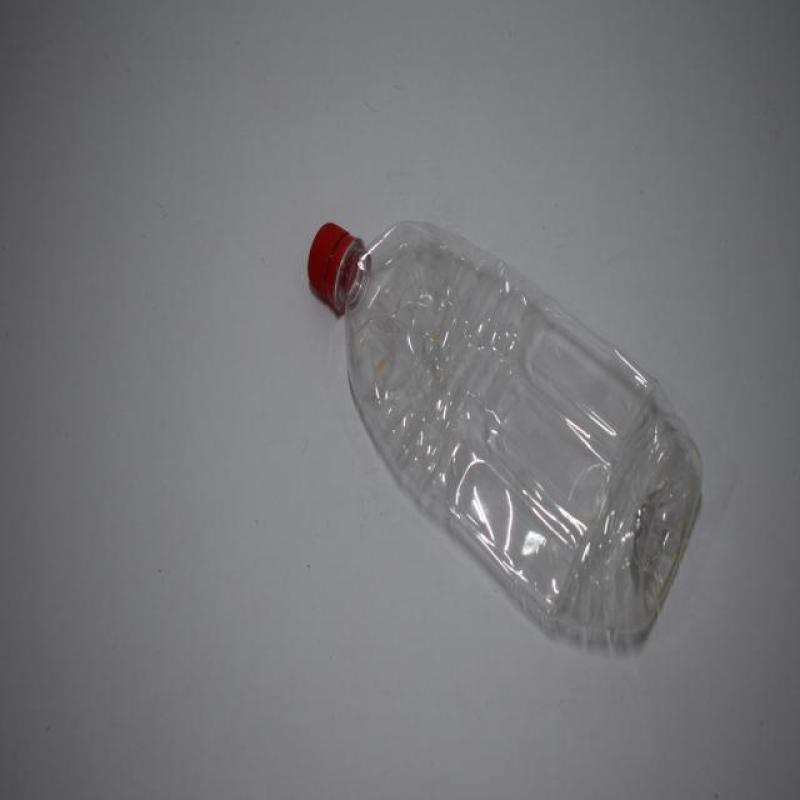botella: (309, 214, 701, 651)
